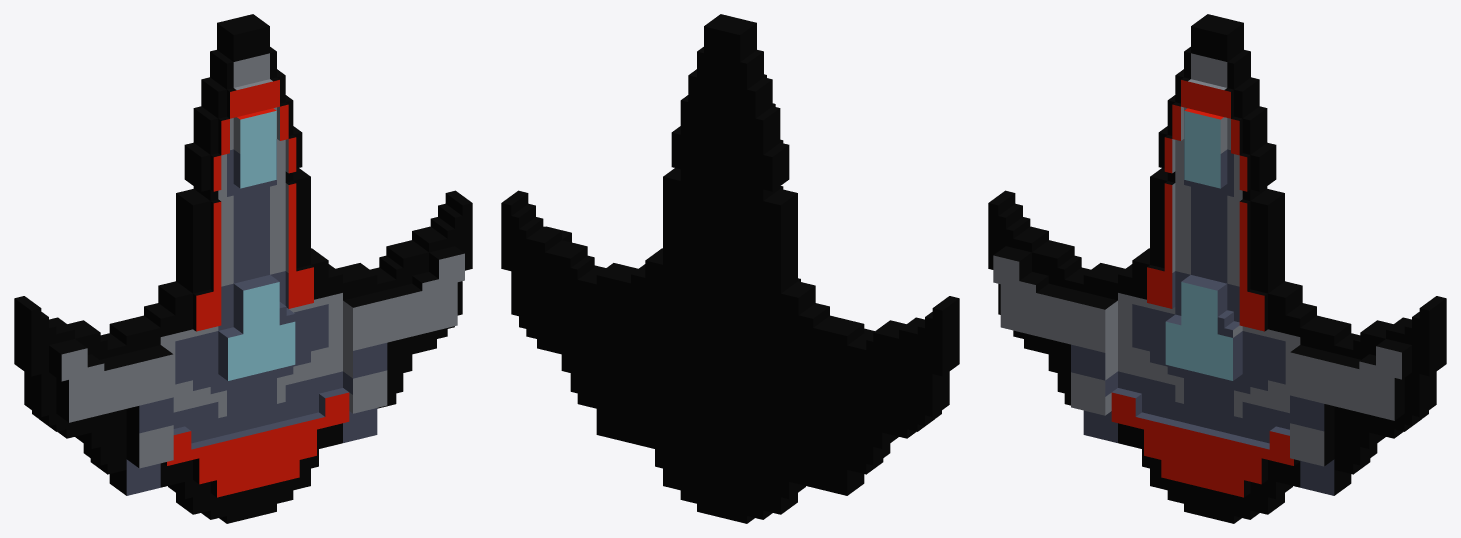
The model's file is NavePlayer1.fbx.
The picture shows the model from 3 angles, left to right: view 1: azimuth 30°, elevation 25°; view 2: azimuth 150°, elevation 25°; view 3: azimuth 330°, elevation 25°; orthographic projection.
Visible parts, largest first — view 1: Cube; view 2: Cube; view 3: Cube.
Boxes of the visible parts, x1,y1,x2,y2 form: Cube: (14,14,472,523); Cube: (501,14,959,523); Cube: (988,14,1446,523).
Bounding box in the file's own units: 141 × 148 × 16.33.
